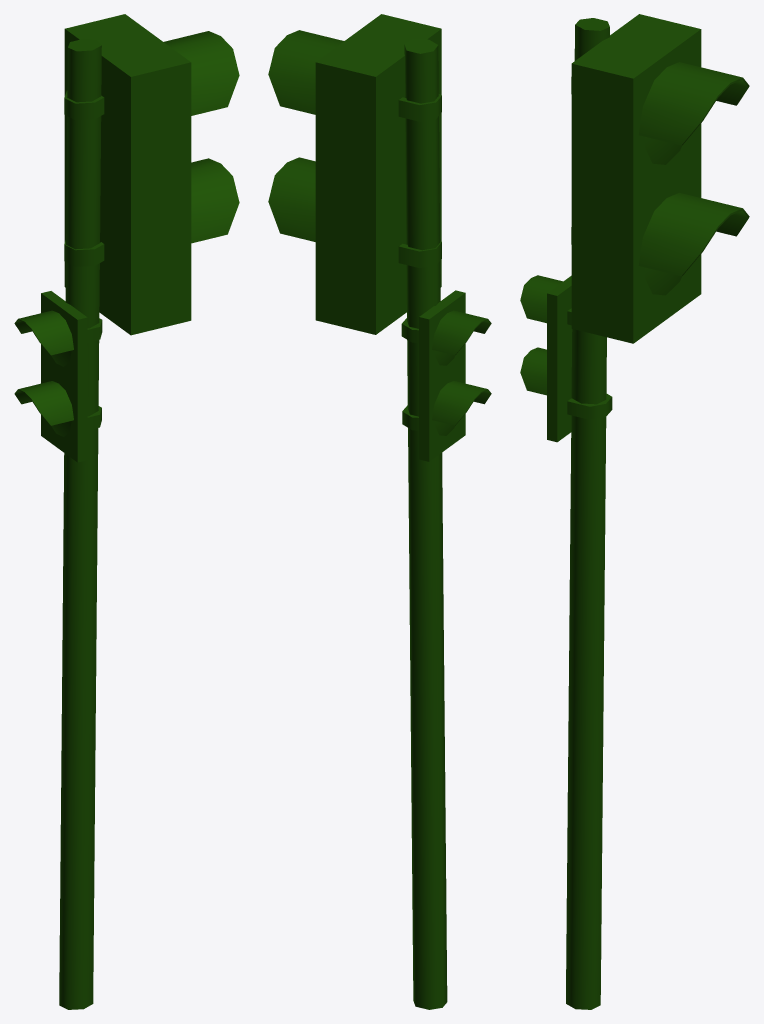
The model's file is T2_Lights04.fbx.
3 renders of one model, left to right at view 1: azimuth 30°, elevation 25°; view 2: azimuth 150°, elevation 25°; view 3: azimuth 330°, elevation 25°, orthographic. The views are drawn at different scales.
Parts seen in each view (by area): view 1: T2_Lights04; view 2: T2_Lights04; view 3: T2_Lights04, T2_Lights04_L1, T2_Lights04_L2.
Part boxes in pixels (bbox=[...]): T2_Lights04: bbox=[14, 14, 239, 1009]; T2_Lights04: bbox=[268, 14, 491, 1009]; T2_Lights04: bbox=[520, 14, 749, 1009]; T2_Lights04_L1: bbox=[645, 136, 682, 164]; T2_Lights04_L2: bbox=[645, 267, 681, 295].
Size of the model in its own units: 0.21 by 0.9828 by 0.123.
